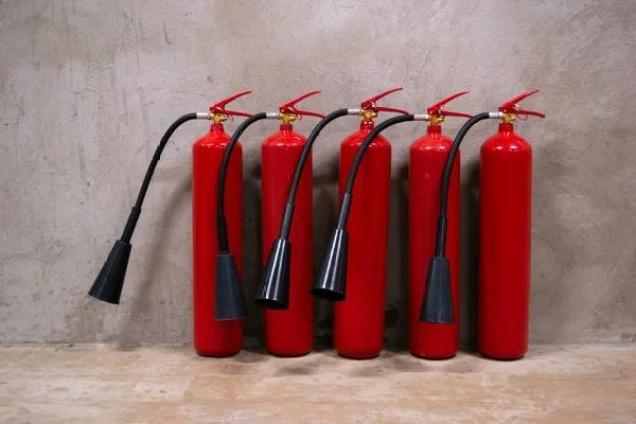APAR: (334, 87, 408, 358), (476, 87, 545, 360), (260, 90, 327, 356), (408, 90, 472, 360), (190, 90, 253, 357)
